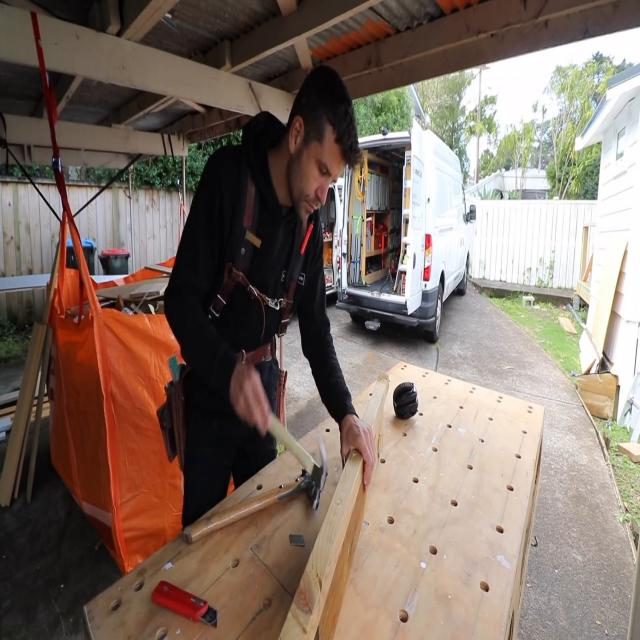hammer: (184, 469, 320, 546), (268, 413, 328, 486)
